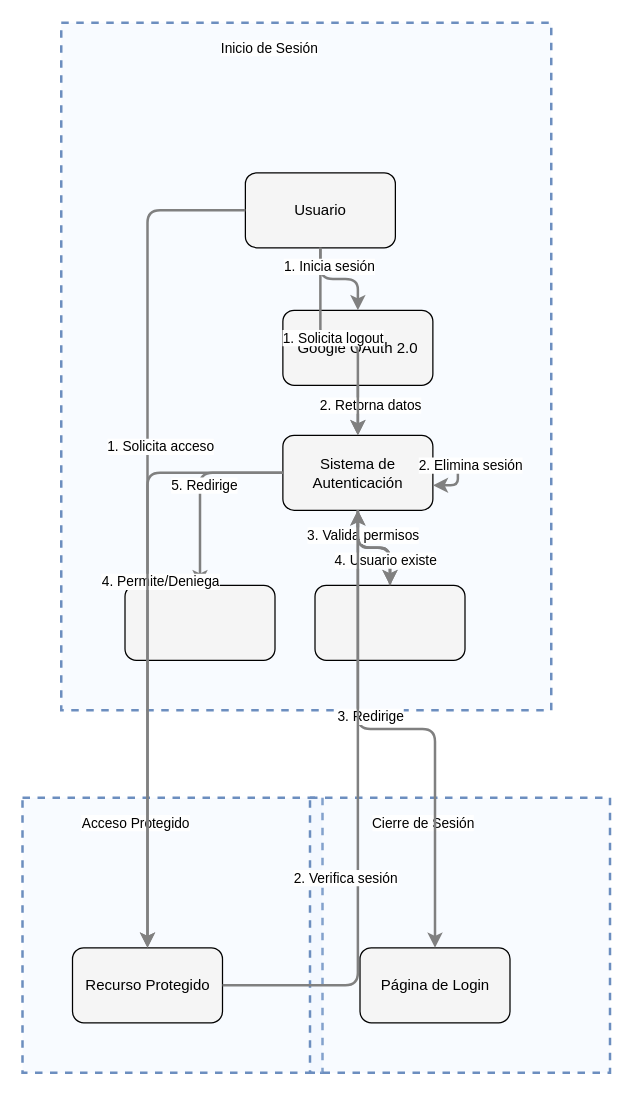
Image size: 633x1095. Some labels were removed from this diagram. The shapes that lost their labels are listed below. From the top down, each one's box as (x1, y1, x2, y2) in pixels, then its label:
(124, 584, 275, 660): Dashboard
(314, 584, 465, 660): Base de Datos
